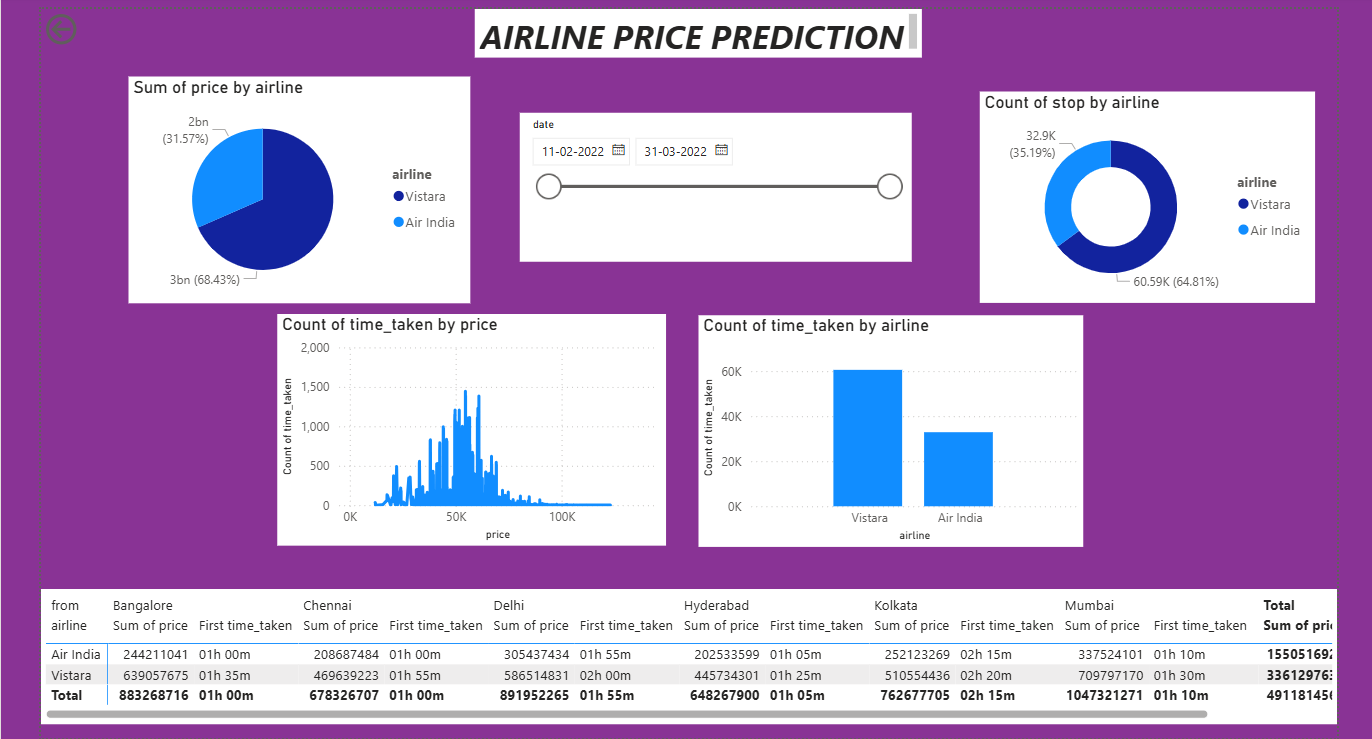

Layout of this report page (visuals, bound fields, positions):
{"tool":"powerbi","page":{"name":"Page 1","canvas":[1280,720],"ordinal":0},"visuals":[{"type":"lineChart","fields":{"Category":["business.price"],"Y":["CountNonNull(business.time_taken)"]},"box":[232.9,301.6,383.7,228.9],"z":0},{"type":"pieChart","fields":{"Category":["business.airline"],"Y":["Sum(business.price)"]},"box":[86.8,67.3,337.5,223.8],"z":1},{"type":"pivotTable","fields":{"Rows":["business.airline"],"Columns":["business.from","business.to"],"Values":["Sum(business.price)","Min(business.time_taken)"]},"box":[0,572.3,1280.3,133.3],"z":2},{"type":"actionButton","box":[0,0,100,40],"z":3},{"type":"slicer","fields":{"Values":["business.date"]},"box":[473.2,102.7,386.4,146.7],"z":4},{"type":"donutChart","fields":{"Category":["business.airline"],"Y":["CountNonNull(business.stop)"]},"box":[926.9,81.9,331.4,209.1],"z":5},{"type":"clusteredColumnChart","fields":{"Category":["business.airline"],"Y":["CountNonNull(business.time_taken)"]},"box":[649.3,302,380.3,228.7],"z":6},{"type":"textbox","box":[428.4,0,442,48.1],"z":7}]}

Visuals, with their boxes in screenshot pixels (x1, y1, x2, y2):
lineChart - business.price x CountNonNull(business.time_taken): (x1=272, y1=313, x2=660, y2=545)
pieChart - business.airline x Sum(business.price): (x1=124, y1=75, x2=466, y2=302)
pivotTable - business.airline x business.from: (x1=36, y1=587, x2=1333, y2=722)
actionButton: (x1=36, y1=7, x2=137, y2=48)
slicer - business.date: (x1=515, y1=111, x2=907, y2=260)
donutChart - business.airline x CountNonNull(business.stop): (x1=975, y1=90, x2=1310, y2=302)
clusteredColumnChart - business.airline x CountNonNull(business.time_taken): (x1=693, y1=313, x2=1079, y2=545)
textbox: (x1=470, y1=7, x2=917, y2=56)
